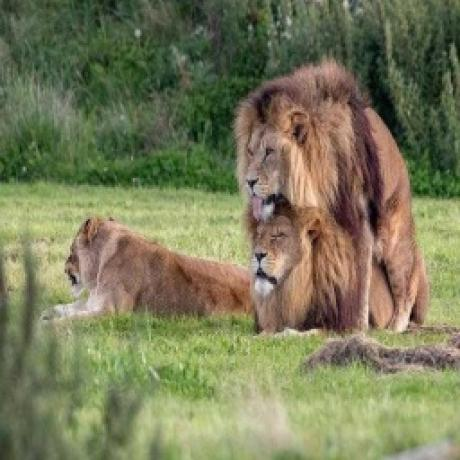Lion: (235, 59, 431, 334), (44, 213, 253, 325), (247, 197, 394, 330)
